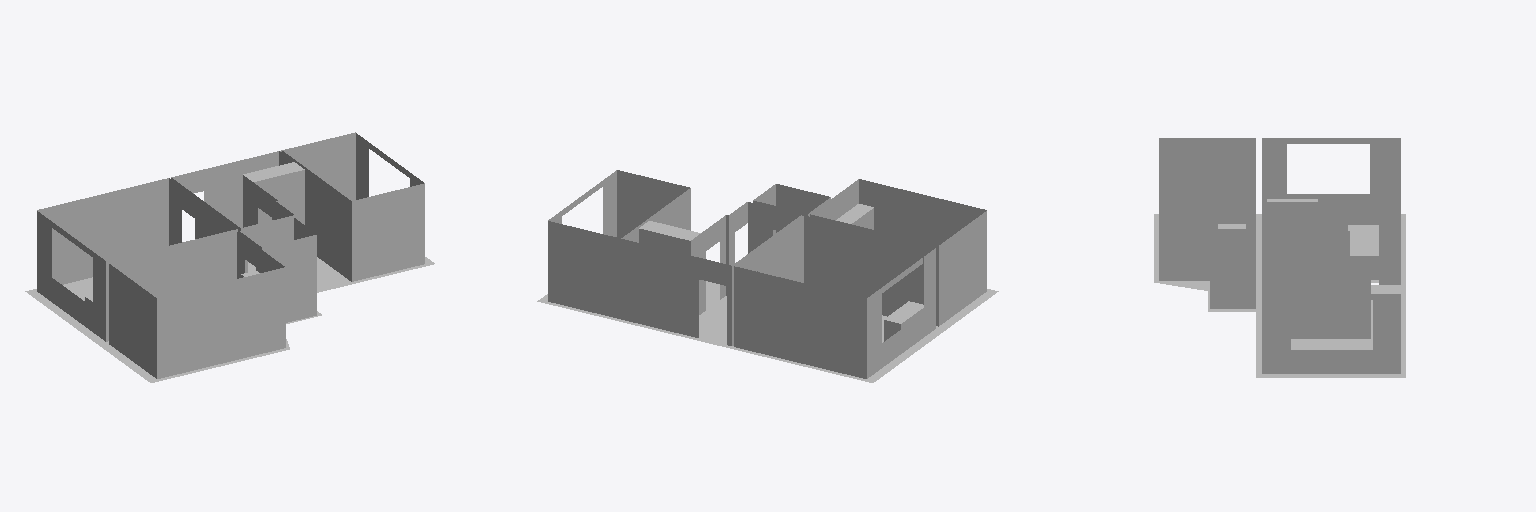
The model's file is Skecth3.obj.
3 views of the same model, side by side, from view 1: azimuth 30°, elevation 25°; view 2: azimuth 150°, elevation 25°; view 3: azimuth 270°, elevation 25° (orthographic).
Parts seen in each view (by area): view 1: Mesh9 Component_12 Model, Mesh8 Component_11 Model, Mesh13 Component_14 Model, Mesh14 Component_17 Model, Mesh12 Component_13 Model, Mesh18 Model, Mesh5 Component_3 Model, Mesh15 Component_16 Model, Mesh6 Component_5 Model; view 2: Mesh8 Component_11 Model, Mesh14 Component_17 Model, Mesh9 Component_12 Model, Mesh13 Component_14 Model, Mesh18 Model, Mesh15 Component_16 Model, Mesh12 Component_13 Model, Mesh2 Component_7 Model, Mesh3 Component_1 Model, Mesh11 Component_9 Model, Mesh6 Component_5 Model; view 3: Mesh13 Component_14 Model, Mesh9 Component_12 Model, Mesh18 Model, Mesh8 Component_11 Model, Mesh12 Component_13 Model, Mesh17 Component_15 Model, Mesh15 Component_16 Model, Mesh6 Component_5 Model.
Boxes of the visible parts, <box> form: Mesh9 Component_12 Model: <box>109,232,285,378</box>; Mesh8 Component_11 Model: <box>37,178,237,341</box>; Mesh13 Component_14 Model: <box>282,133,424,281</box>; Mesh14 Component_17 Model: <box>171,132,355,227</box>; Mesh12 Component_13 Model: <box>239,218,316,322</box>; Mesh18 Model: <box>25,257,434,382</box>; Mesh5 Component_3 Model: <box>254,170,304,247</box>; Mesh15 Component_16 Model: <box>241,182,294,244</box>; Mesh6 Component_5 Model: <box>243,162,304,181</box>; Mesh8 Component_11 Model: <box>734,215,935,378</box>; Mesh14 Component_17 Model: <box>548,221,731,345</box>; Mesh9 Component_12 Model: <box>810,179,986,326</box>; Mesh13 Component_14 Model: <box>548,170,690,238</box>; Mesh18 Model: <box>537,281,998,382</box>; Mesh15 Component_16 Model: <box>701,202,800,313</box>; Mesh12 Component_13 Model: <box>753,184,830,237</box>; Mesh2 Component_7 Model: <box>884,301,923,341</box>; Mesh3 Component_1 Model: <box>639,229,690,255</box>; Mesh11 Component_9 Model: <box>836,204,873,229</box>; Mesh6 Component_5 Model: <box>639,221,700,240</box>; Mesh13 Component_14 Model: <box>1262,258,1400,373</box>; Mesh9 Component_12 Model: <box>1159,138,1255,280</box>; Mesh18 Model: <box>1154,214,1405,377</box>; Mesh8 Component_11 Model: <box>1262,138,1400,203</box>; Mesh12 Component_13 Model: <box>1210,202,1255,308</box>; Mesh17 Component_15 Model: <box>1262,204,1400,284</box>; Mesh15 Component_16 Model: <box>1262,230,1349,257</box>; Mesh6 Component_5 Model: <box>1350,231,1370,255</box>.
Size of the model in its own units: 11.3 by 2.6 by 7.33.